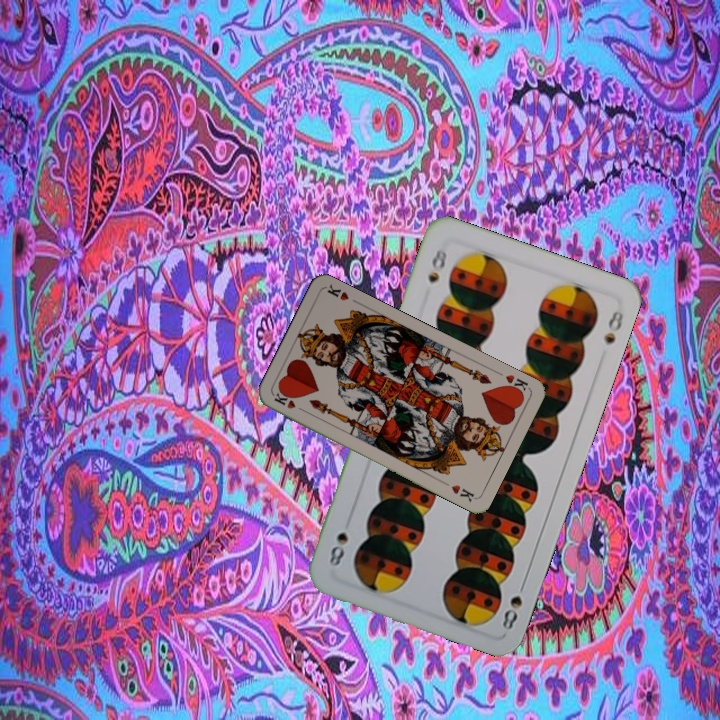HK: (270, 389, 308, 415), (500, 370, 531, 398)
S8: (498, 576, 529, 633), (424, 244, 450, 286)
